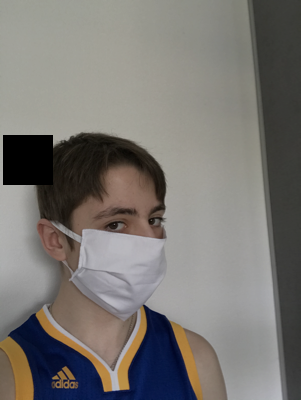with_mask: (71, 197, 169, 322)
